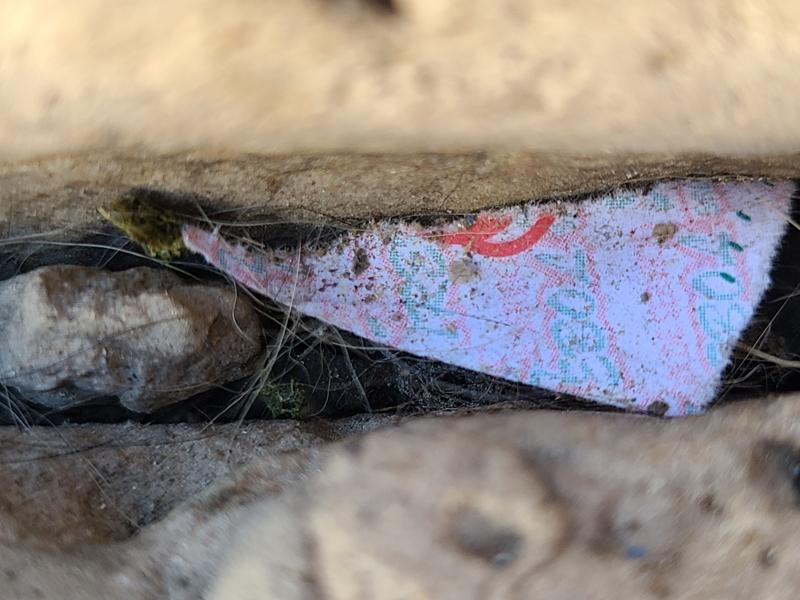papel: (188, 180, 798, 419)
